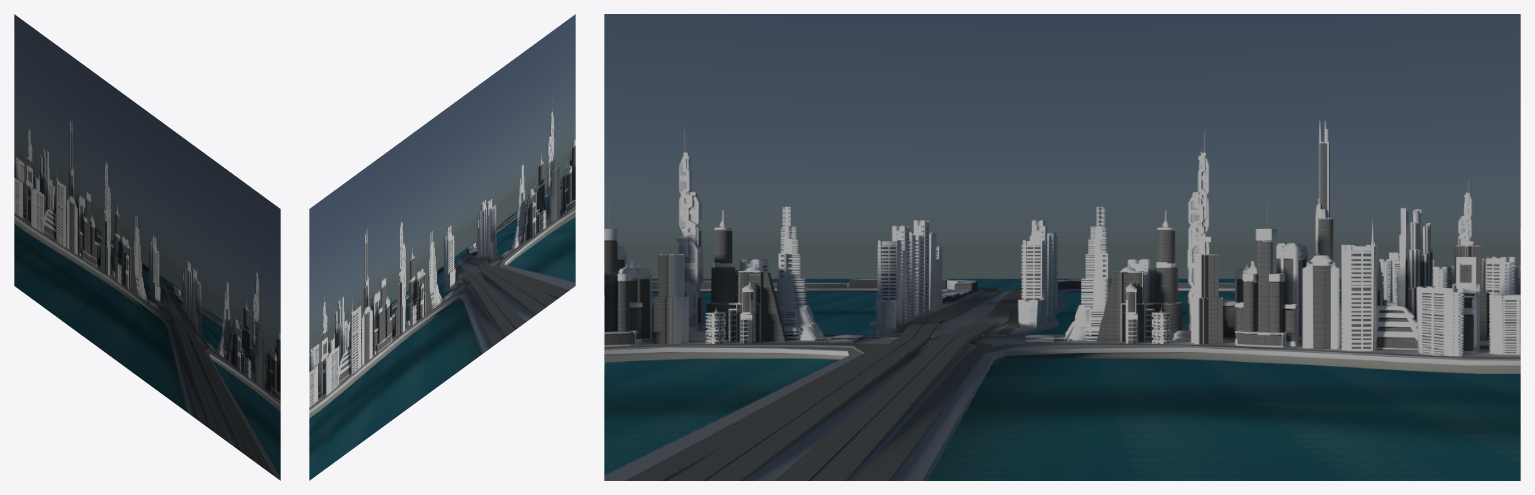
The model's file is CLOTH.obj.
3 renders of one model, left to right at view 1: azimuth 30°, elevation 25°; view 2: azimuth 150°, elevation 25°; view 3: azimuth 270°, elevation 25°, orthographic. The views are drawn at different scales.
Visible parts, largest first — view 1: v_i_r_t_u_a_l_v_i_r_t_u_a_l; view 2: v_i_r_t_u_a_l_v_i_r_t_u_a_l; view 3: v_i_r_t_u_a_l_v_i_r_t_u_a_l.
Part boxes in pixels (x1,y1,x2,y2): v_i_r_t_u_a_l_v_i_r_t_u_a_l: (14, 14, 280, 480); v_i_r_t_u_a_l_v_i_r_t_u_a_l: (309, 14, 575, 480); v_i_r_t_u_a_l_v_i_r_t_u_a_l: (604, 14, 1520, 480).
Size of the model in its own units: 0 by 0.3499 by 0.622.
